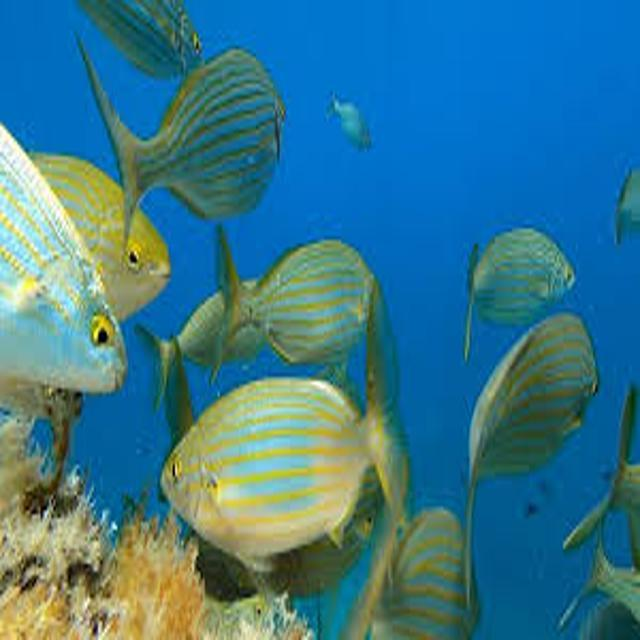fish: (161, 281, 406, 574), (74, 29, 292, 253), (459, 311, 601, 613), (0, 114, 130, 393), (211, 225, 381, 382), (34, 153, 173, 322), (339, 506, 493, 640), (140, 273, 265, 415), (459, 221, 578, 359), (560, 379, 640, 572), (74, 0, 205, 84), (562, 543, 640, 640), (321, 87, 373, 149)
